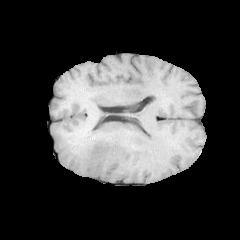glioma: (62, 98, 164, 178)
